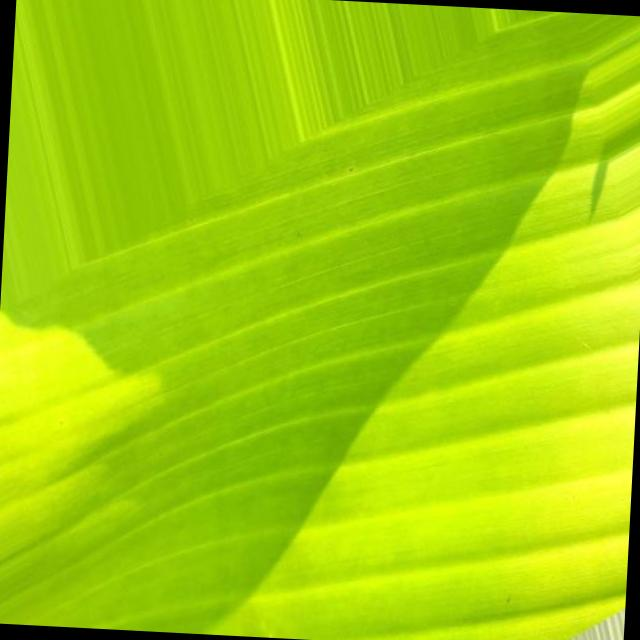Banana_Healthy: (97, 135, 560, 486)
